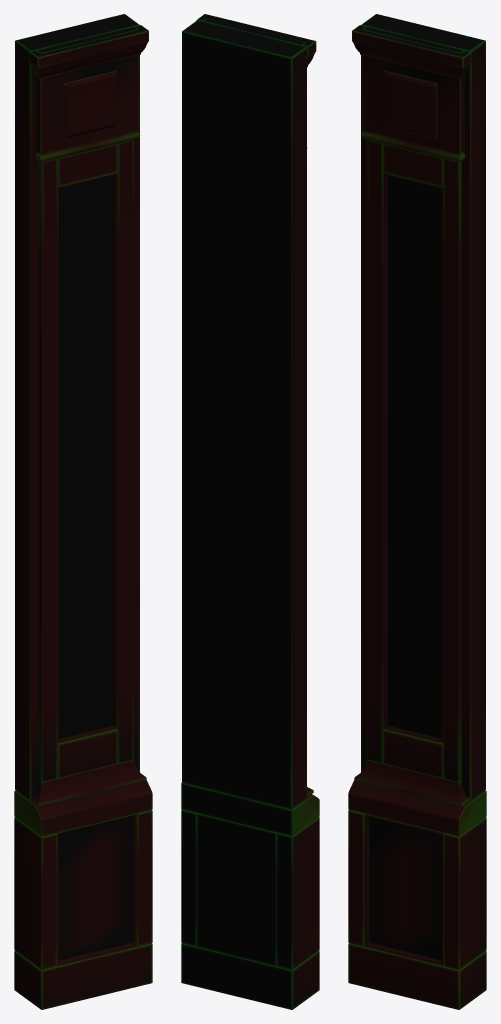
Rendered from pilaster.glb.
3 views of the same model, side by side, from view 1: azimuth 30°, elevation 25°; view 2: azimuth 150°, elevation 25°; view 3: azimuth 330°, elevation 25° (orthographic).
Visible parts, largest first — view 1: pilaster; view 2: pilaster; view 3: pilaster.
Boxes of the visible parts, box(x1,y1,x2,y2) form: pilaster: box(14, 14, 152, 1009); pilaster: box(181, 14, 319, 1009); pilaster: box(348, 14, 486, 1009).
Size of the model in its own units: 0.35 by 2.85 by 0.15.
